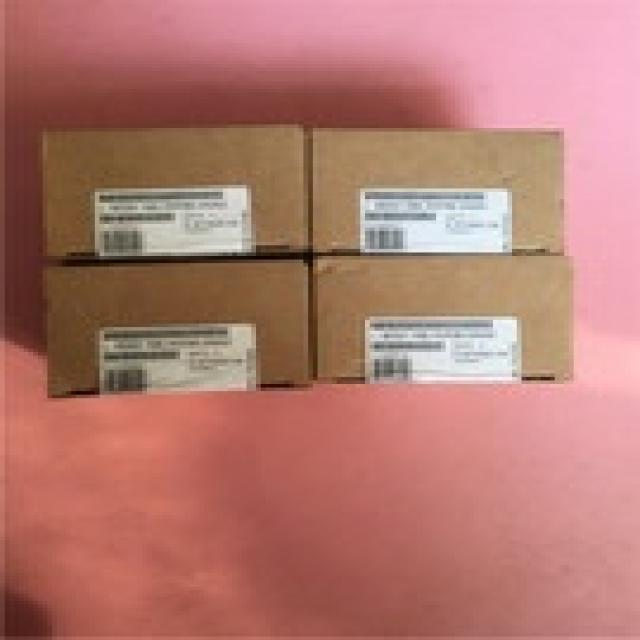box: (44, 257, 317, 403), (41, 123, 313, 260), (315, 252, 578, 383), (313, 129, 562, 254)
